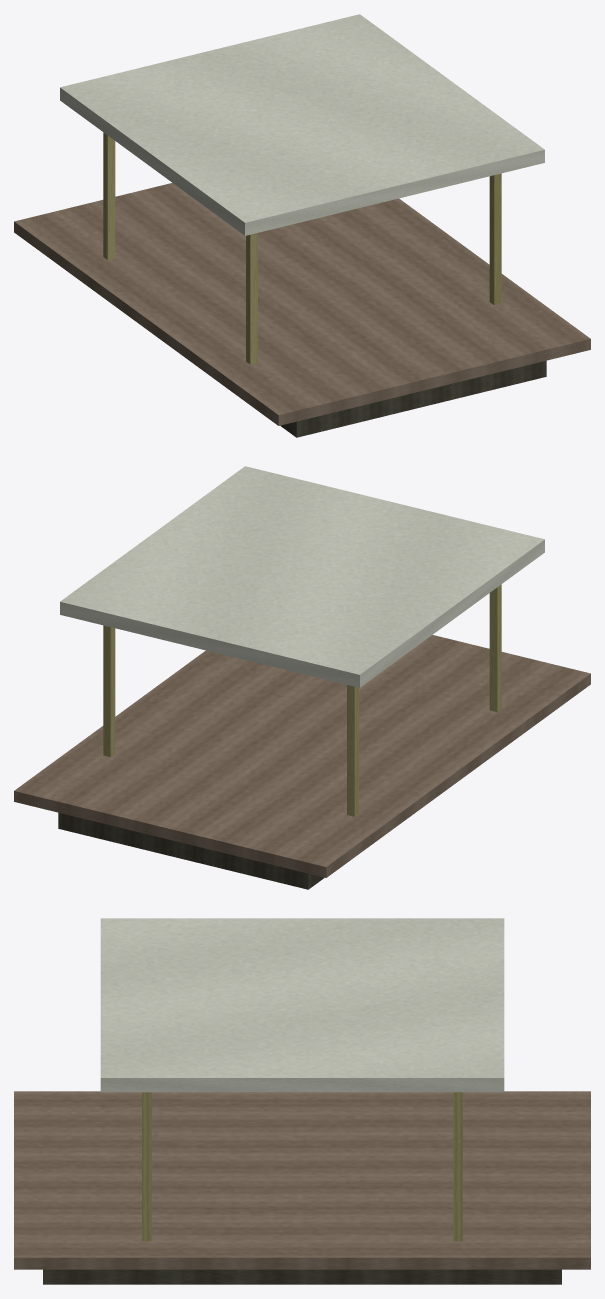
Rendered from bung-raft-1-white-lod.glb.
3 views of the same model, one above another, from view 1: azimuth 30°, elevation 25°; view 2: azimuth 150°, elevation 25°; view 3: azimuth 270°, elevation 25° (orthographic). The views are drawn at different scales.
Visible parts, largest first — view 1: bung-raft-1-white-lod; view 2: bung-raft-1-white-lod; view 3: bung-raft-1-white-lod.
Boxes of the visible parts, x1,y1,x2,y2 form: bung-raft-1-white-lod: (14, 14, 590, 437); bung-raft-1-white-lod: (14, 466, 590, 889); bung-raft-1-white-lod: (14, 918, 590, 1284).
Size of the model in its own units: 4.5 by 2.78 by 6.6.
Materials: 1 (1 with a texture image).
